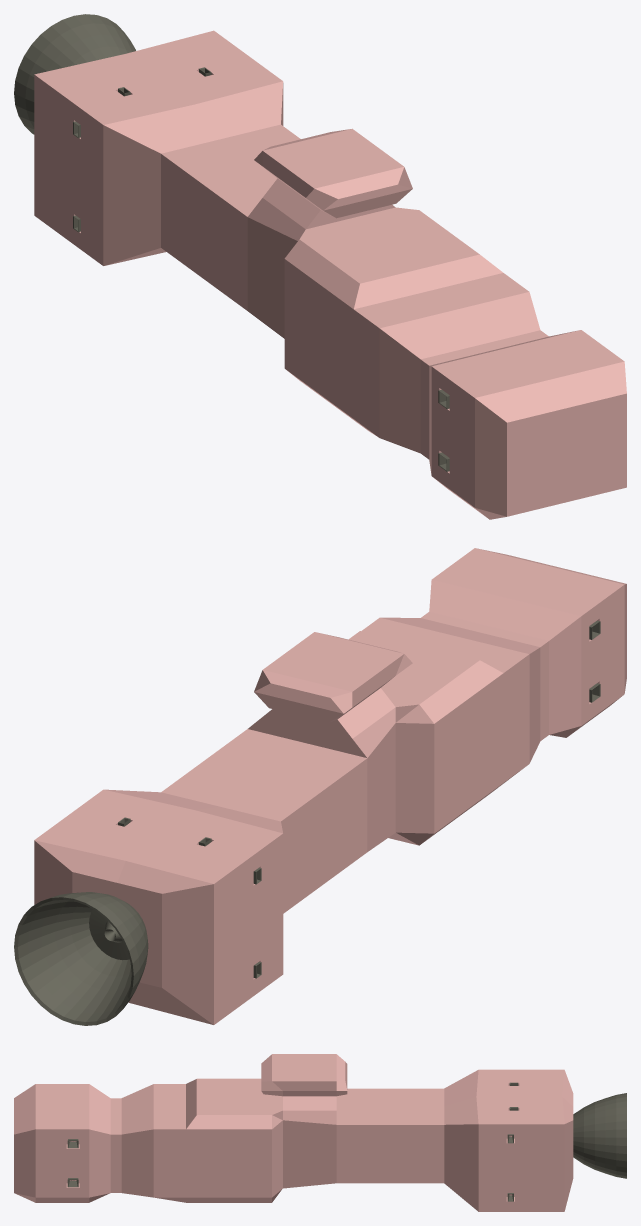
The model's file is Space_Ship.glb.
3 views of the same model, one above another, from view 1: azimuth 30°, elevation 25°; view 2: azimuth 150°, elevation 25°; view 3: azimuth 270°, elevation 25° (orthographic). The views are drawn at different scales.
Parts seen in each view (by area): view 1: Ship; view 2: Ship; view 3: Ship.
Part boxes in pixels (<box>): Ship: <box>14,14,626,519</box>; Ship: <box>14,548,626,1025</box>; Ship: <box>14,1054,626,1211</box>.
Size of the model in its own units: 12.24 by 12.12 by 57.
